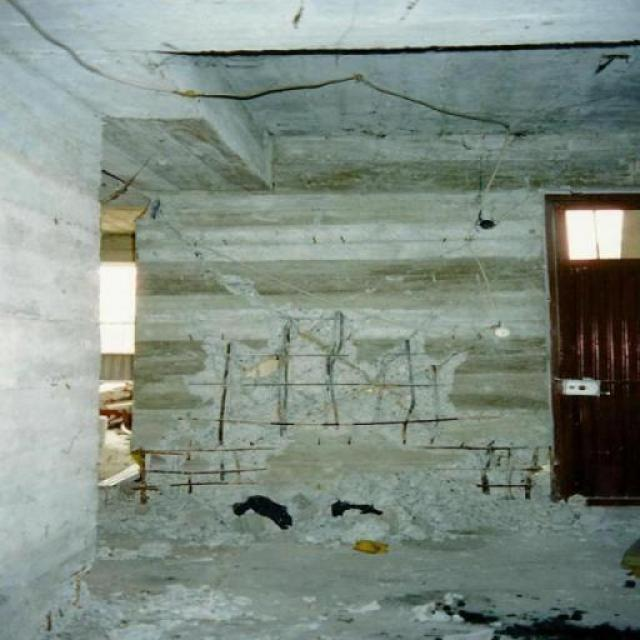D0w0: (130, 311, 486, 504), (429, 439, 542, 498)
